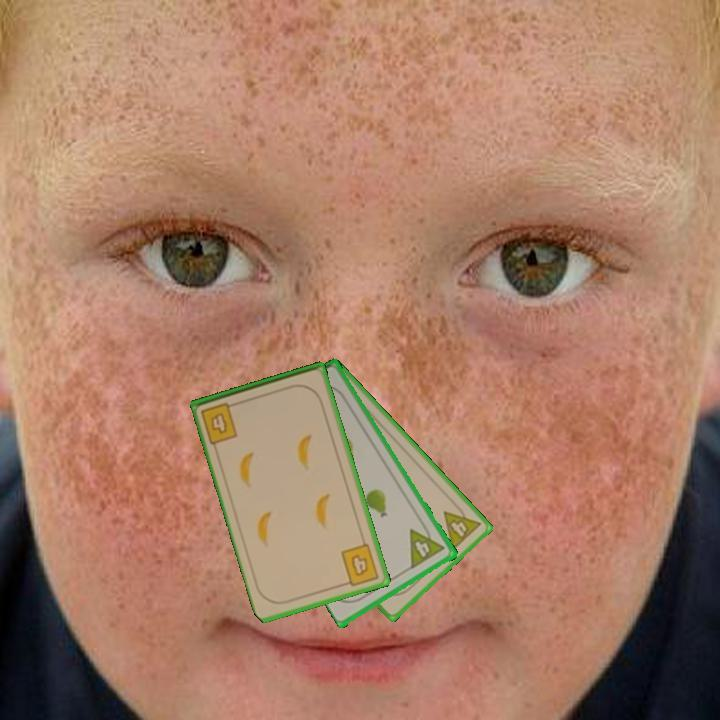4b: (197, 399, 242, 447), (338, 540, 382, 589)
4p: (440, 499, 484, 553), (406, 520, 448, 571)
